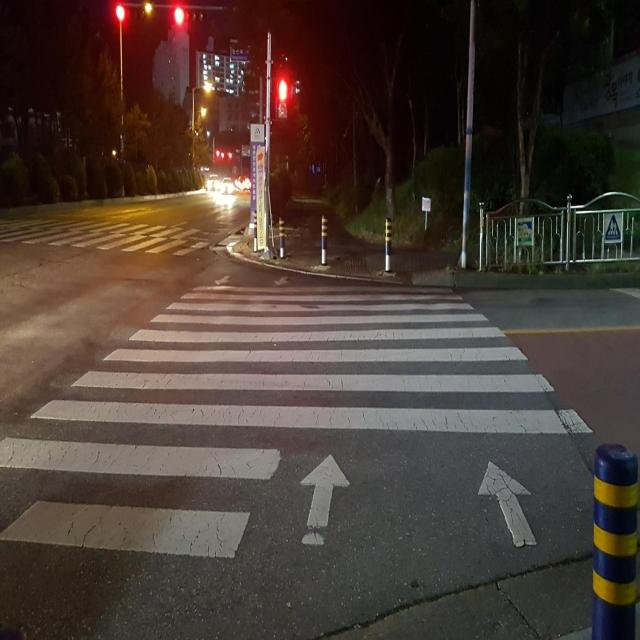빨간불: (276, 76, 289, 120)
횡단보도: (0, 273, 594, 561), (0, 214, 219, 261)
